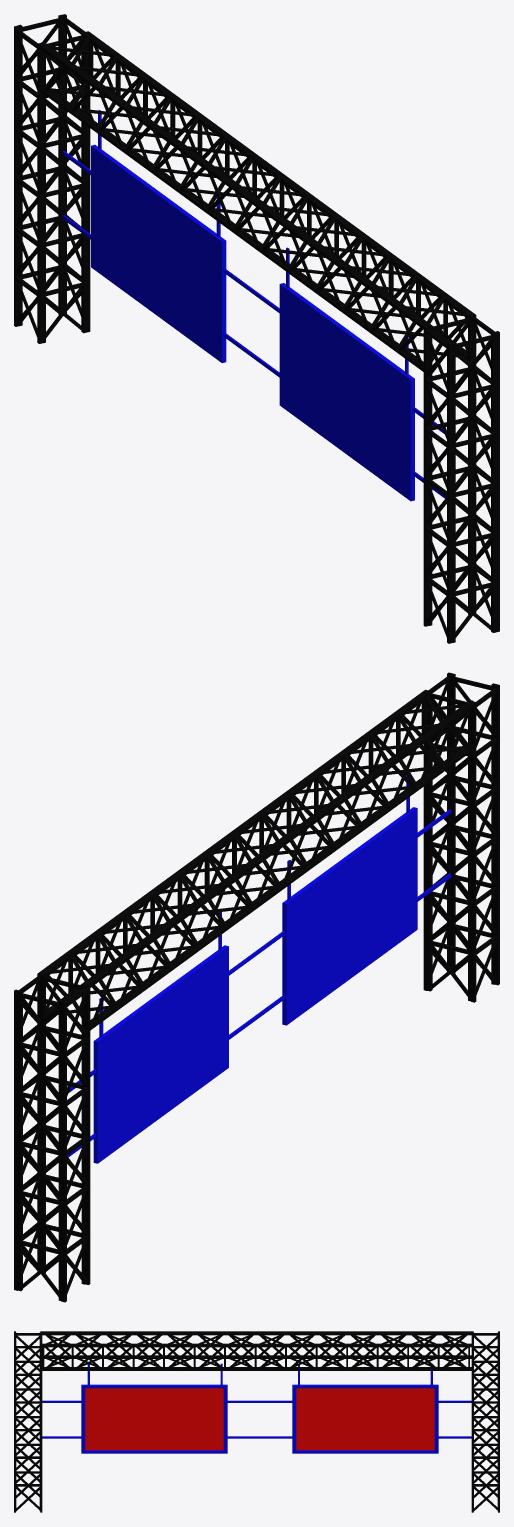
File: Billboard_New_3.fbx
3 views of the same model, one above another, from view 1: azimuth 30°, elevation 25°; view 2: azimuth 150°, elevation 25°; view 3: azimuth 270°, elevation 25° (orthographic). The views are drawn at different scales.
Parts seen in each view (by area): view 1: Billboard_New_3; view 2: Billboard_New_3; view 3: Billboard_New_3.
Boxes of the visible parts, box(x1,y1,x2,y2) form: Billboard_New_3: box(14, 14, 499, 643); Billboard_New_3: box(14, 672, 499, 1302); Billboard_New_3: box(14, 1331, 499, 1512).
Size of the model in its own units: 59.68 by 334 by 878.
